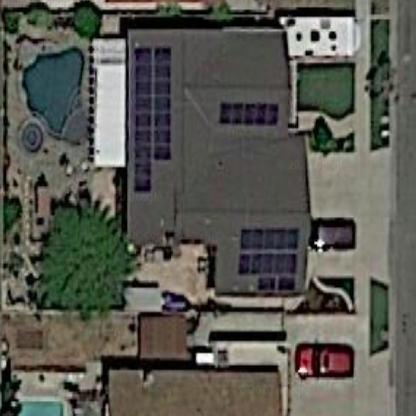car: (291, 327, 354, 385)
solar_panel: (125, 43, 176, 198), (237, 220, 301, 298), (218, 91, 287, 137)
swimming_pool: (21, 28, 96, 165)
